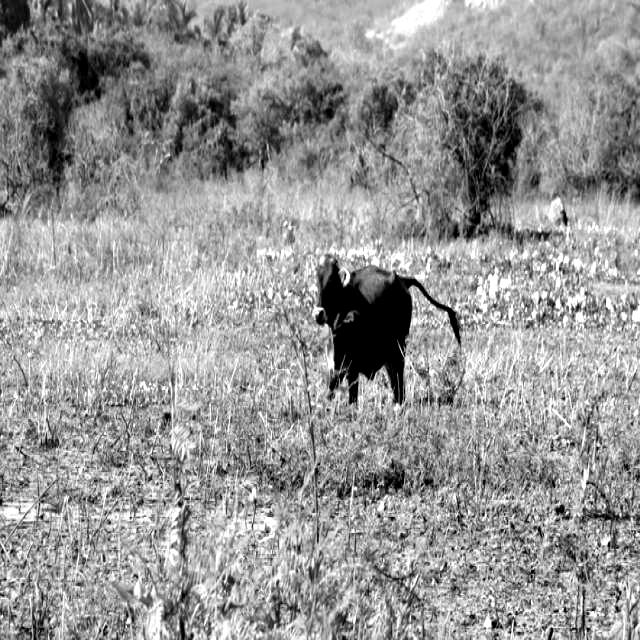COW: (314, 255, 461, 403)
